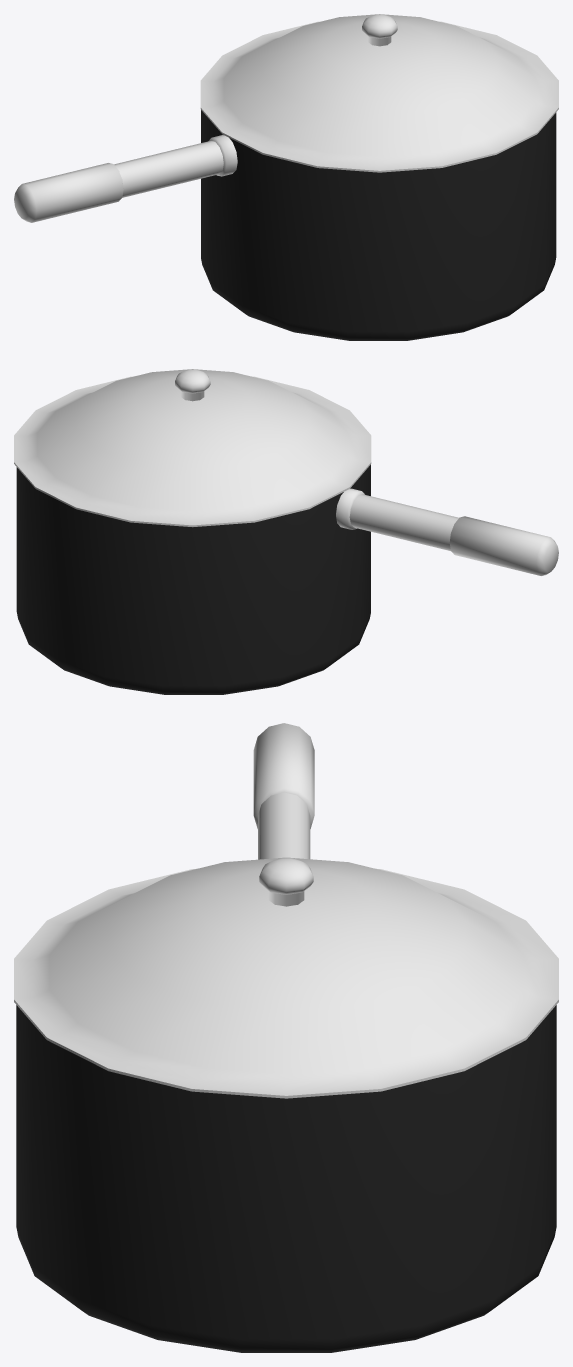
The model's file is KitchenSmallPot.fbx.
The picture shows the model from 3 angles, top to bottom: view 1: azimuth 30°, elevation 25°; view 2: azimuth 150°, elevation 25°; view 3: azimuth 270°, elevation 25°; orthographic projection. The views are drawn at different scales.
Visible parts, largest first — view 1: polySurface19; view 2: polySurface19; view 3: polySurface19.
Part boxes in pixels (bbox=[...]): polySurface19: bbox=[14, 14, 558, 340]; polySurface19: bbox=[14, 369, 558, 694]; polySurface19: bbox=[14, 723, 558, 1352].
Size of the model in its own units: 59.67 by 27.87 by 35.77.
